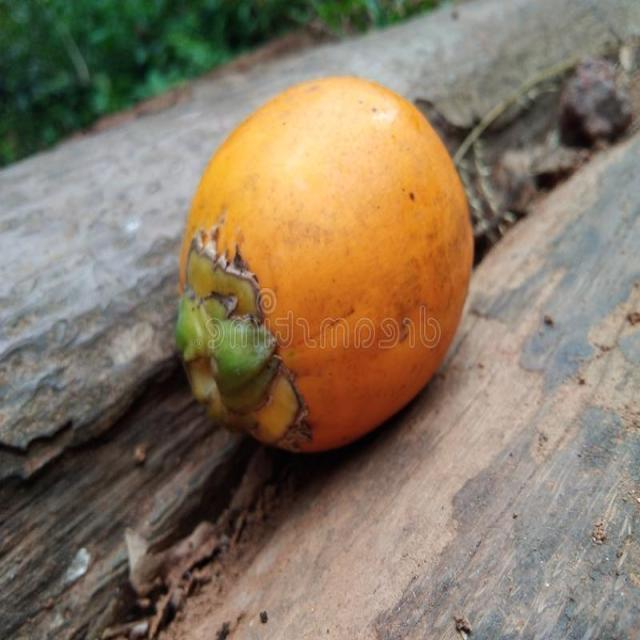good: (176, 77, 476, 458)
